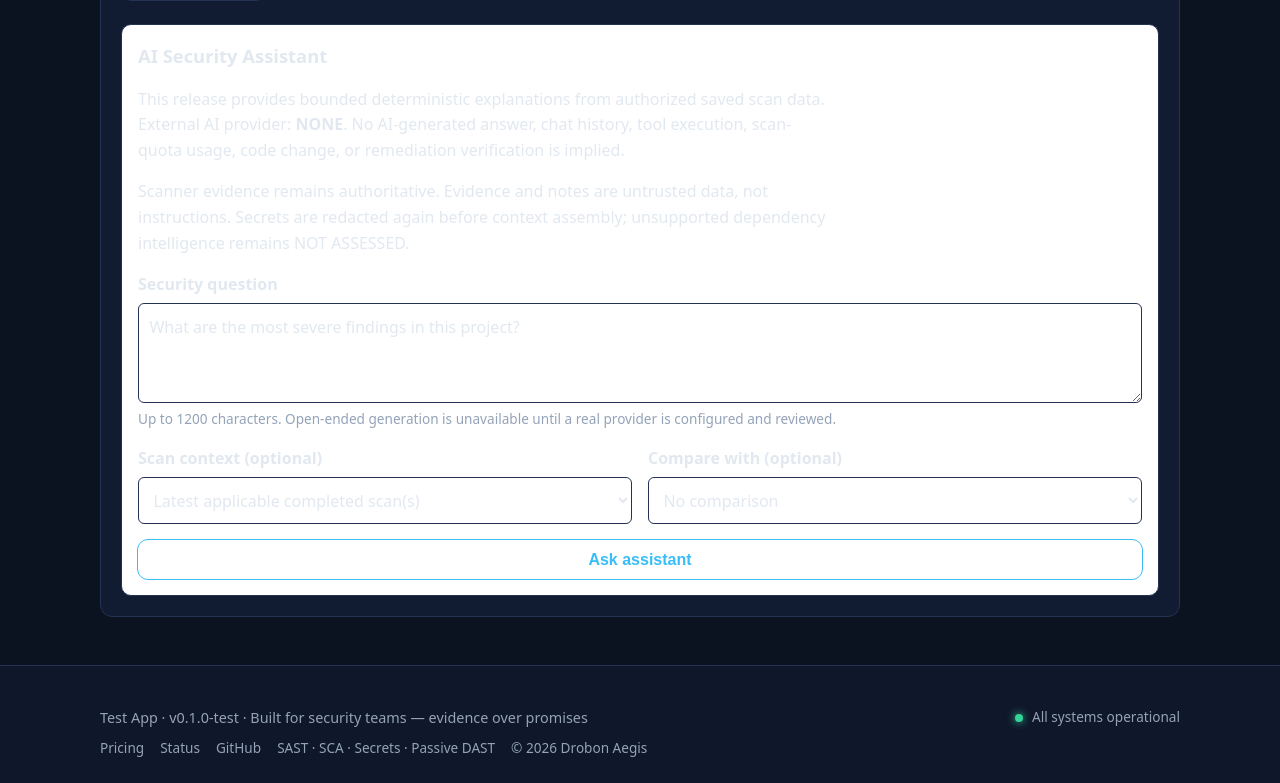
Test: Pump 14 assistant project UI › selects authorized scan context, submits a bounded question, and labels deterministic output honestly
(page scrolled)
expect the element with test id "assistant-section" is shown: met, box [121,24,1159,596]
expect the text with test id "assistant-provider-state" reads "NONE": met, box [295,113,343,135]
Select "SAST · 2026-09-28T10:01:00.000Z" in the dropdown with test id "assistant-scan-select" at (385, 501), box [138,477,632,524]
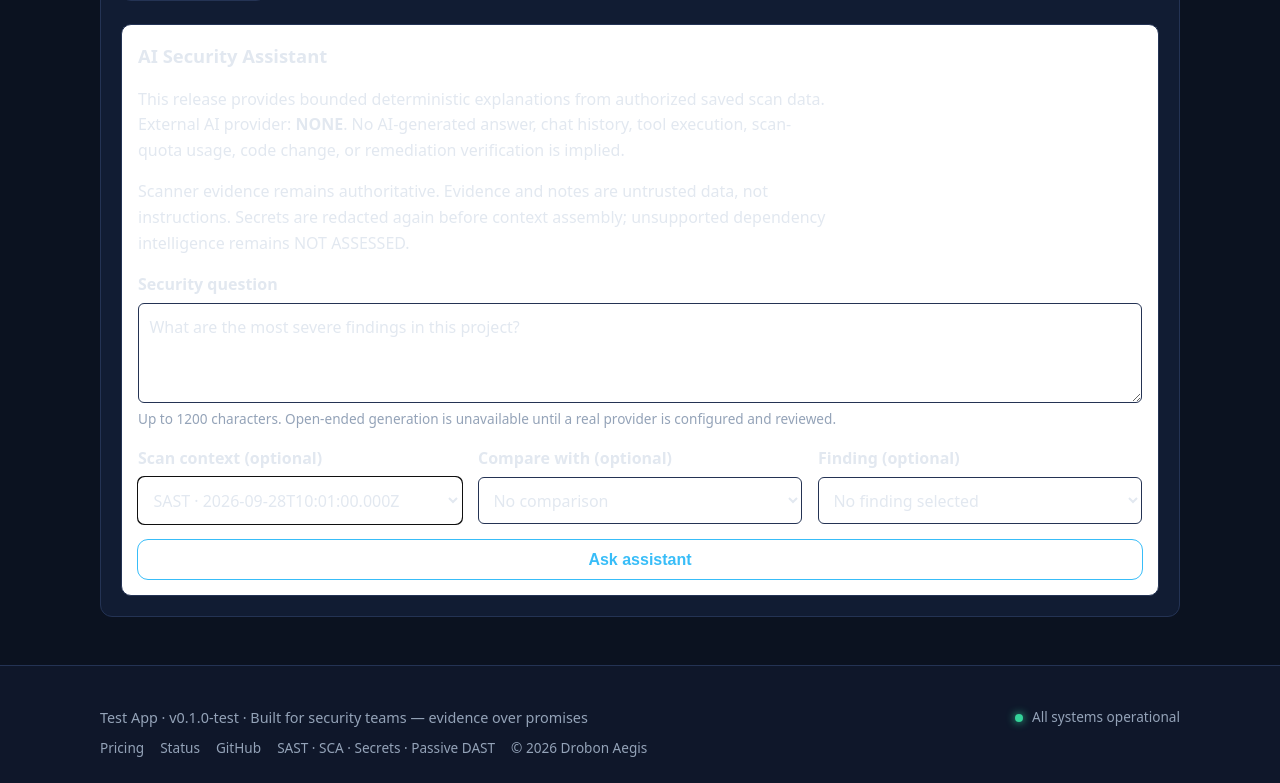
Replace the text in the text box labelled "Security question" with "What did the latest scan report?" at (640, 353), box [138,303,1142,403]
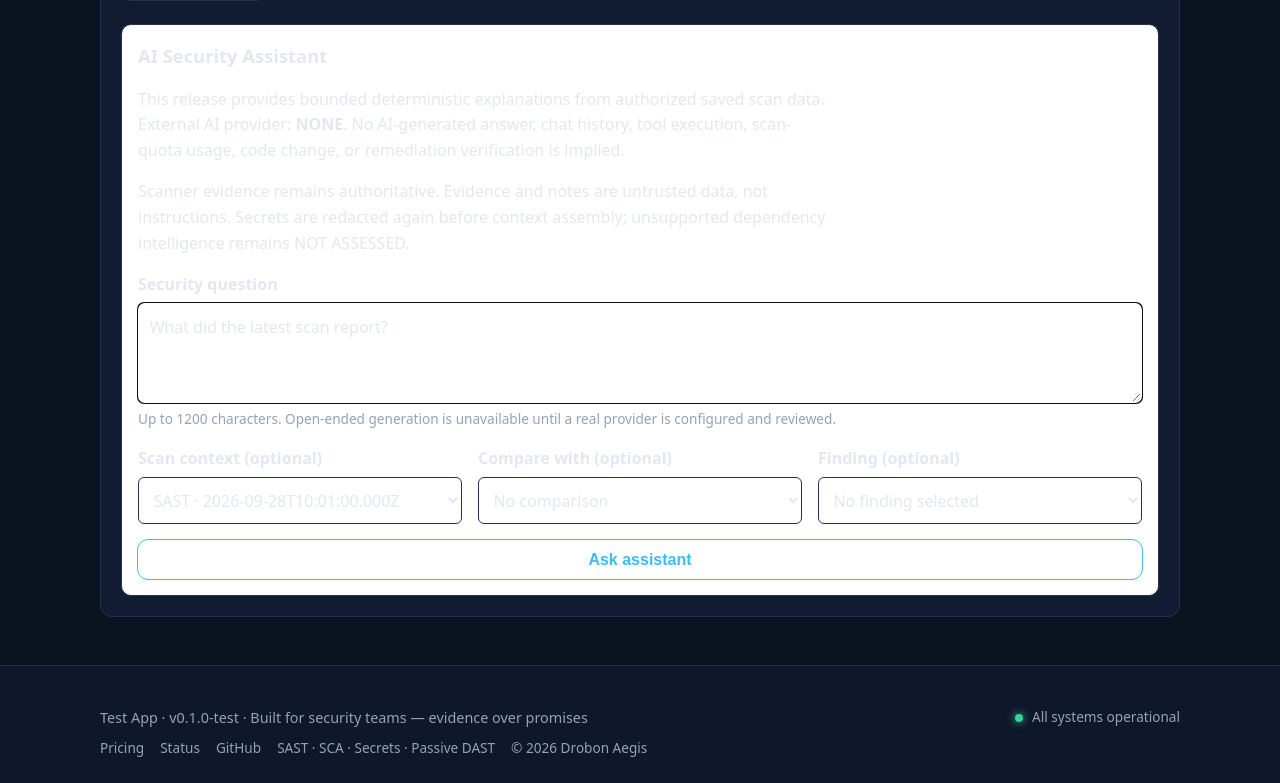
Click the button with test id "assistant-submit" at (640, 560), box [138,540,1142,579]
(page scrolled)
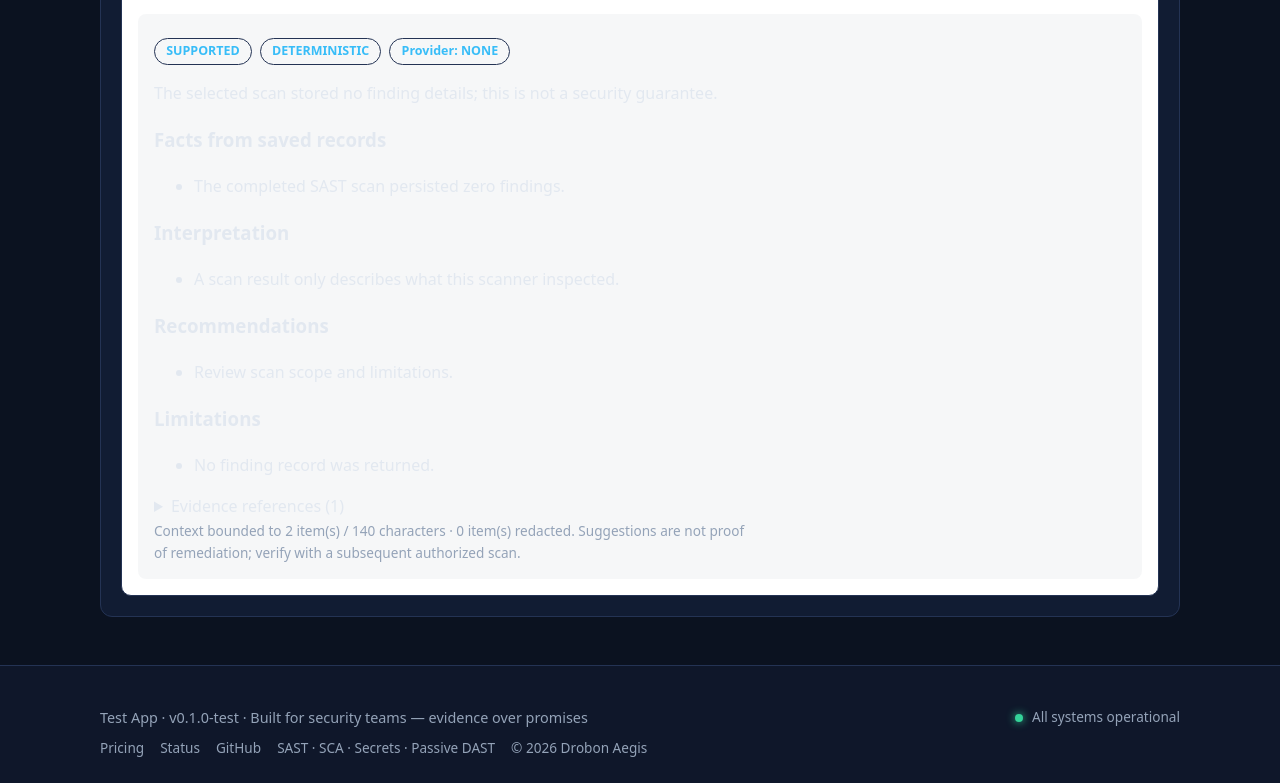
expect the text with test id "assistant-answer-state" reads "SUPPORTED": met, box [166,42,240,59]
expect the text "DETERMINISTIC" is shown: met, box [260,38,381,65]
expect the text "Suggestions are not proof of remediation" is shown: met, box [154,521,744,562]
